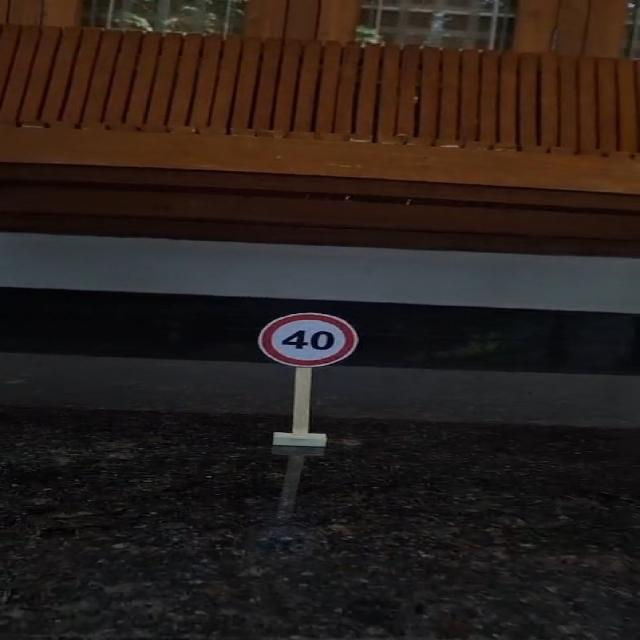Speed40: (255, 311, 360, 369)
